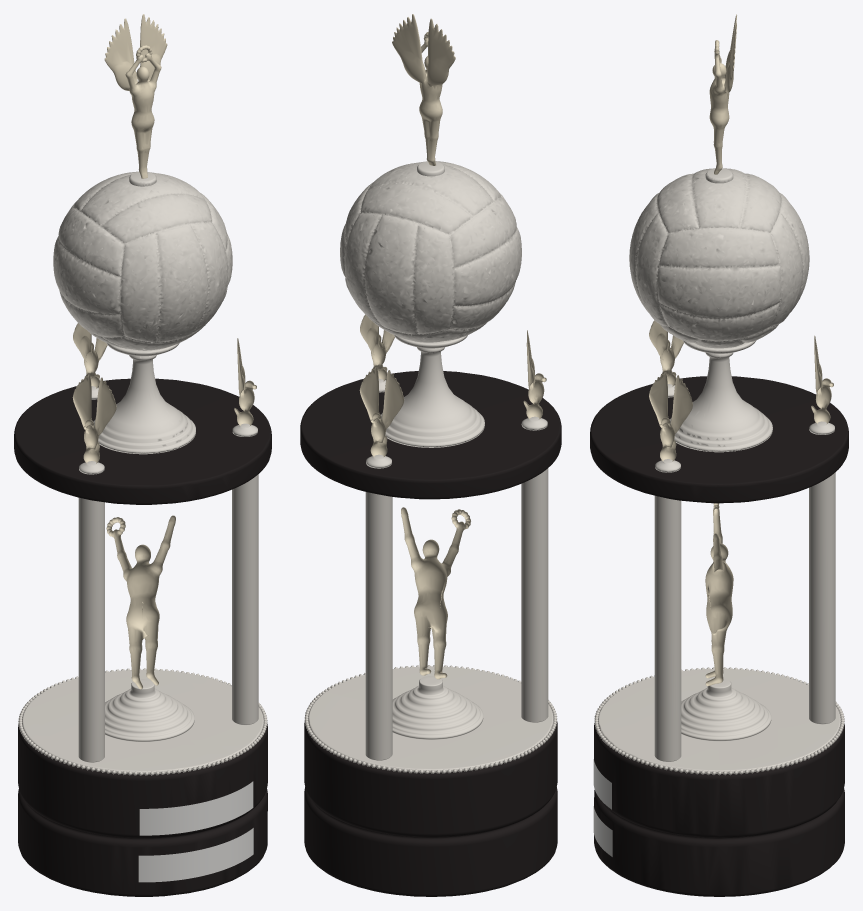
Rendered from copa-campeon-colombiano-detalle.glb.
The picture shows the model from 3 angles, left to right: view 1: azimuth 30°, elevation 25°; view 2: azimuth 150°, elevation 25°; view 3: azimuth 270°, elevation 25°; orthographic projection.
Visible parts, largest first — view 1: Balon, Base_negra, Disco_negro, Columnas, Plato_plateado, Pedestal_balon, Atleta, Victoria_alada, Pedestal_atleta, Aguilas, Placa_campeon, Placa_club (+2 smaller); view 2: Base_negra, Balon, Disco_negro, Columnas, Plato_plateado, Pedestal_balon, Atleta, Pedestal_atleta, Victoria_alada, Aguilas, Borde_perlas, Bases_aguilas; view 3: Base_negra, Balon, Disco_negro, Columnas, Plato_plateado, Pedestal_balon, Pedestal_atleta, Aguilas, Atleta, Victoria_alada, Borde_perlas, Bases_aguilas (+2 smaller).
Boxes of the visible parts, left/top/right/bottom form: Balon: left=53, top=171, right=232, bottom=350; Base_negra: left=18, top=724, right=267, bottom=896; Disco_negro: left=14, top=378, right=271, bottom=504; Columnas: left=78, top=474, right=258, bottom=762; Plato_plateado: left=22, top=669, right=263, bottom=774; Pedestal_balon: left=93, top=343, right=195, bottom=454; Atleta: left=106, top=515, right=175, bottom=689; Victoria_alada: left=104, top=14, right=167, bottom=178; Pedestal_atleta: left=105, top=679, right=194, bottom=741; Aguilas: left=72, top=323, right=256, bottom=463; Placa_campeon: left=138, top=828, right=253, bottom=882; Placa_club: left=139, top=781, right=253, bottom=835; Base_negra: left=304, top=721, right=557, bottom=896; Balon: left=340, top=161, right=521, bottom=342; Disco_negro: left=300, top=371, right=561, bottom=499; Columnas: left=365, top=468, right=548, bottom=760; Plato_plateado: left=308, top=666, right=553, bottom=772; Pedestal_balon: left=381, top=335, right=484, bottom=447; Atleta: left=401, top=507, right=470, bottom=679; Pedestal_atleta: left=392, top=676, right=483, bottom=739; Victoria_alada: left=392, top=14, right=455, bottom=165; Aguilas: left=359, top=314, right=546, bottom=456; Borde_perlas: left=304, top=665, right=557, bottom=773; Bases_aguilas: left=366, top=378, right=547, bottom=468; Base_negra: left=594, top=723, right=844, bottom=896; Balon: left=629, top=168, right=809, bottom=348; Disco_negro: left=590, top=376, right=848, bottom=503; Columnas: left=654, top=472, right=835, bottom=761; Plato_plateado: left=598, top=668, right=840, bottom=773; Pedestal_balon: left=669, top=340, right=772, bottom=452; Pedestal_atleta: left=681, top=678, right=771, bottom=741; Aguilas: left=649, top=320, right=833, bottom=461; Atleta: left=705, top=503, right=733, bottom=686; Victoria_alada: left=709, top=14, right=736, bottom=174; Borde_perlas: left=594, top=667, right=844, bottom=775; Bases_aguilas: left=655, top=384, right=834, bottom=472.
Bounding box in the file's own units: 0.213 × 0.75 × 0.213.
